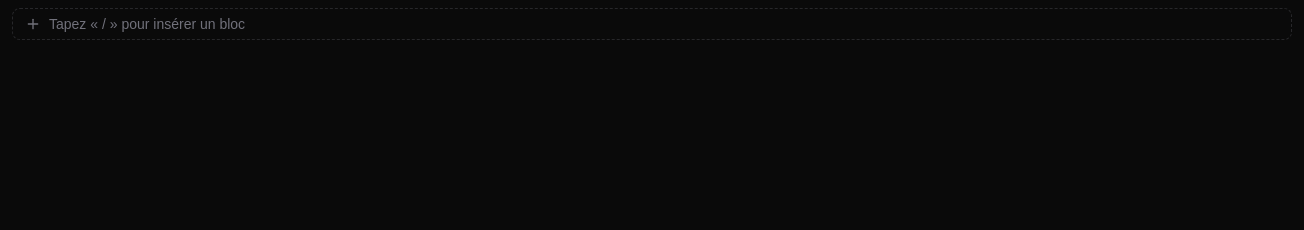
Test: BlockCanvas › insère un bloc via le slash menu déclenché par la touche /
Press / in the element showing "Tapez « / » pour insérer un bloc", box [12,0,1292,40]
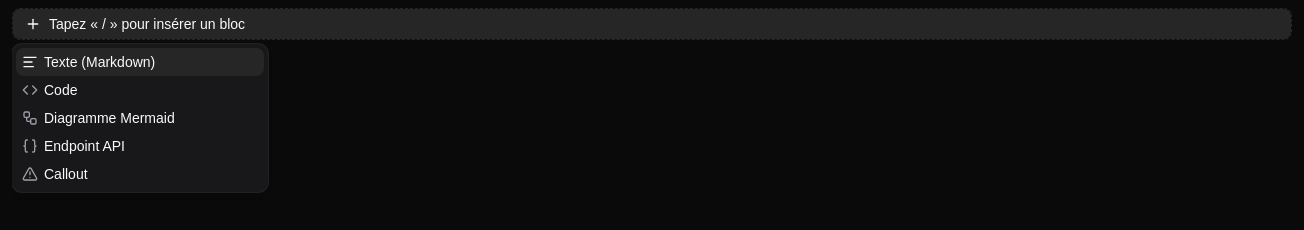
Click the menu item "Callout": (55, 174) [22,166,88,182]
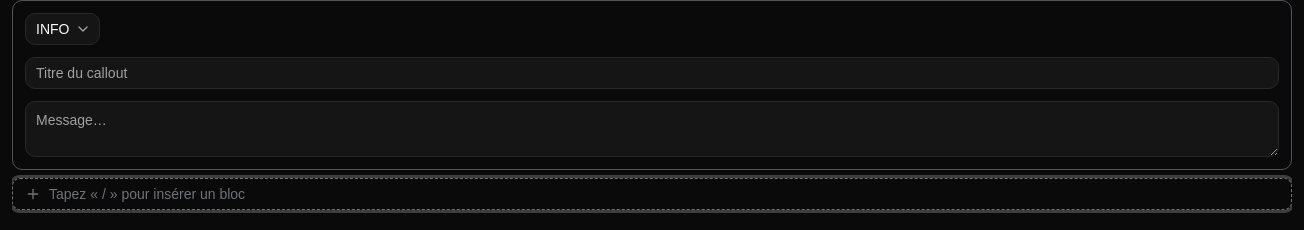
Check: the text box labelled "Message" is shown, box [25,101,1279,157]
Check: the dropdown named "Variante du callout" is shown, box [25,13,100,45]
